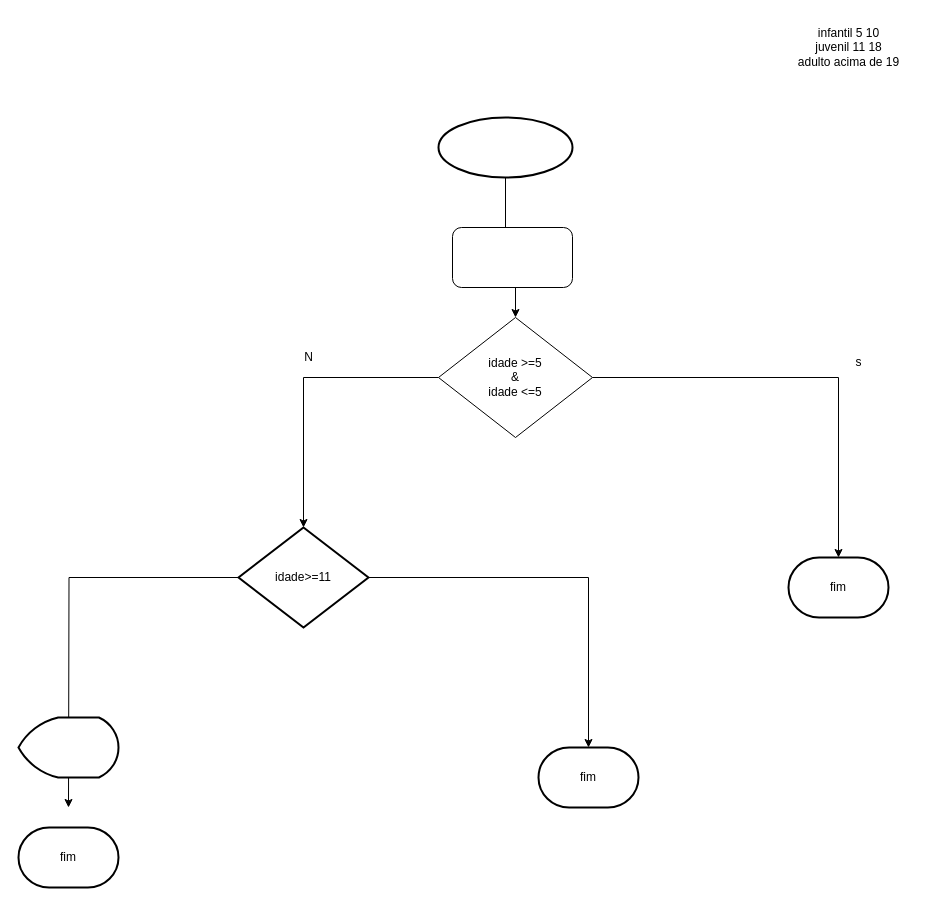
Some shapes in this 925 by 905 pixel diagram are drawn without their labels. The box of each missing label's shape, as (x1, y1, x2, y2) in pixels:
ADULTO: (17, 716, 119, 778)
infantil >=5 Juvenil>=11 adulto>=19: (452, 226, 572, 288)
inicio: (437, 116, 573, 178)
